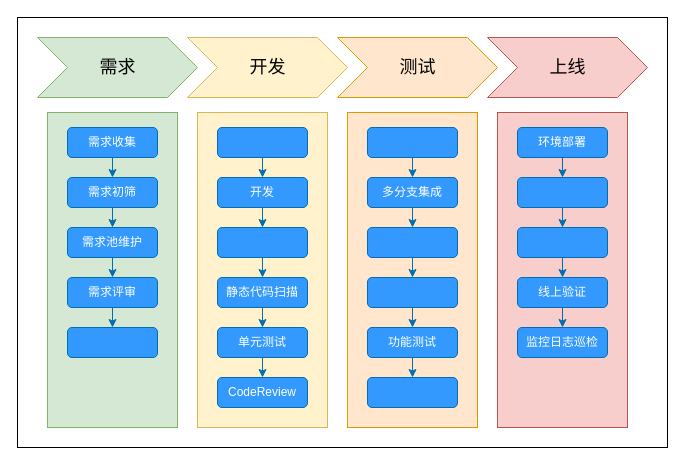
The diagram is 685 pixels wide and 465 high, and some of its shapes have lost their labels. Each missing label, with the centre of its shape:
"性能测试" belongs at pixel 412 392.
"接口自动化" belongs at pixel 412 292.
"数据库检查" belongs at pixel 562 242.
"架构设计" belongs at pixel 262 142.
"测试准入" belongs at pixel 412 142.
"测试环境部署" belongs at pixel 412 242.
"配置检查" belongs at pixel 562 192.
"集成编译" belongs at pixel 262 242.
"需求排期" belongs at pixel 112 342.
